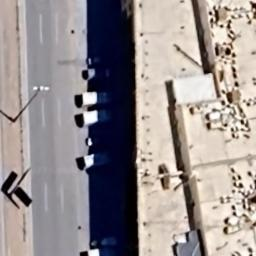SUV: (89, 234, 119, 249)
sedan: (84, 54, 110, 66)
